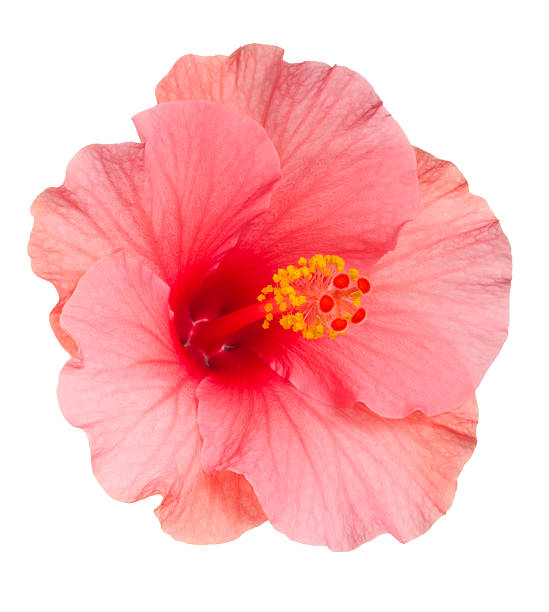Hibiscus: (13, 36, 508, 567)
